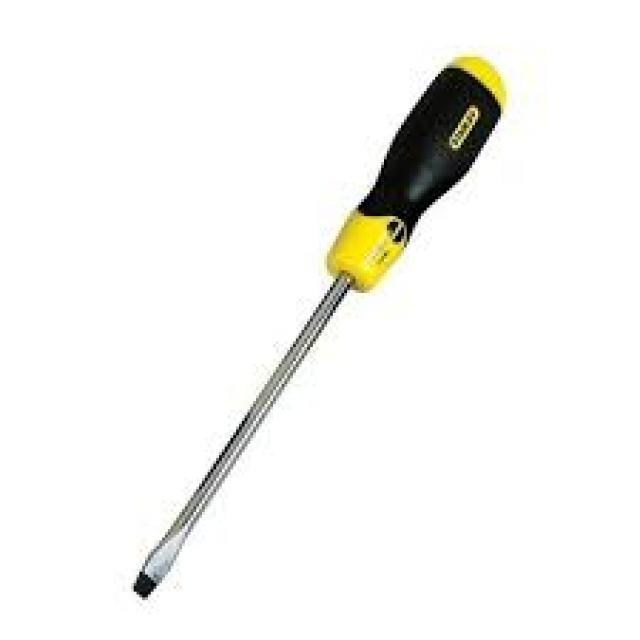screwdriver: (130, 56, 514, 604)
